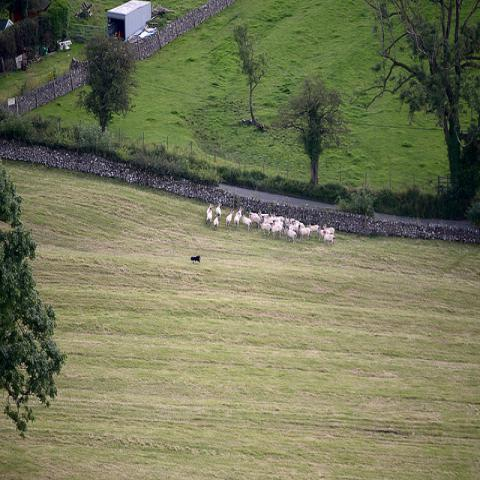truck: (108, 0, 152, 40)
